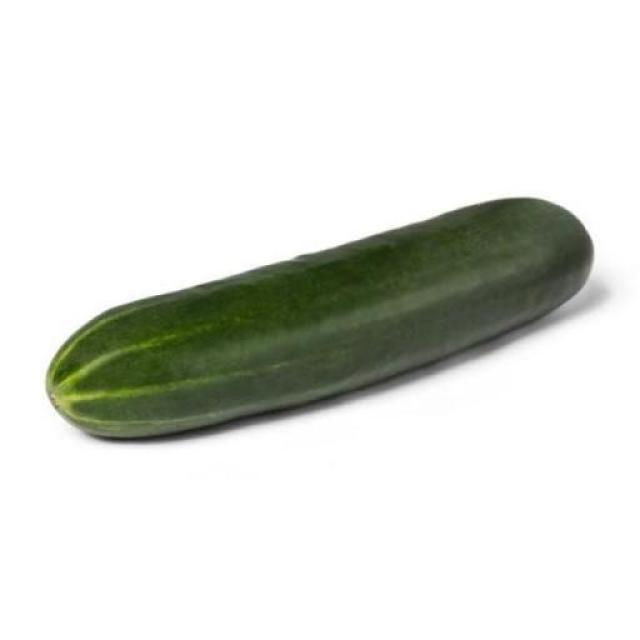cucumber: (37, 189, 606, 449)
